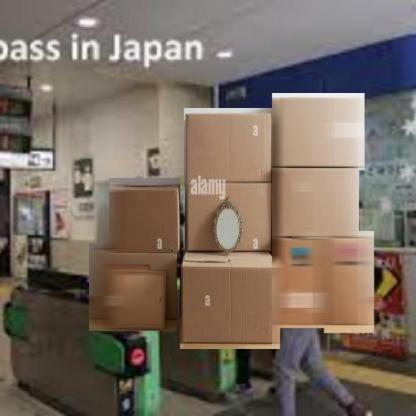-: (179, 249, 282, 351), (88, 242, 180, 334), (271, 93, 367, 172), (183, 108, 276, 189), (184, 179, 276, 255), (272, 170, 361, 241), (108, 177, 182, 255), (324, 230, 375, 335), (272, 234, 327, 330)
